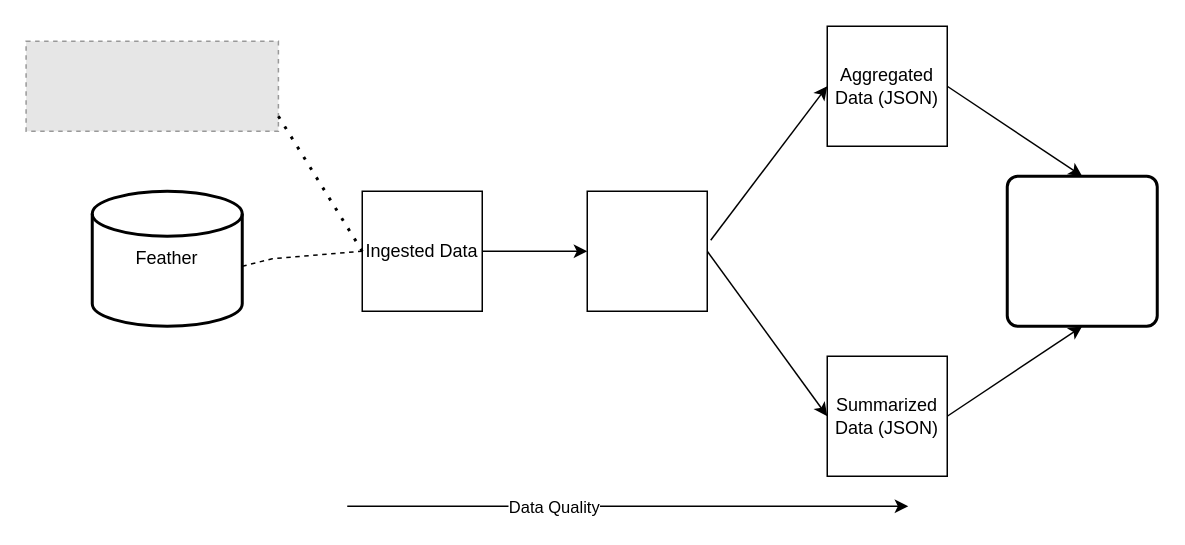
Some shapes in this 1185 by 545 pixel diagram are drawn without their labels. Grey dashed boxes stand in for pictures. Each missing label, with the centre of its shape:
Data Visualization and Querying: [1081,250]
Processed Data: [646,250]
